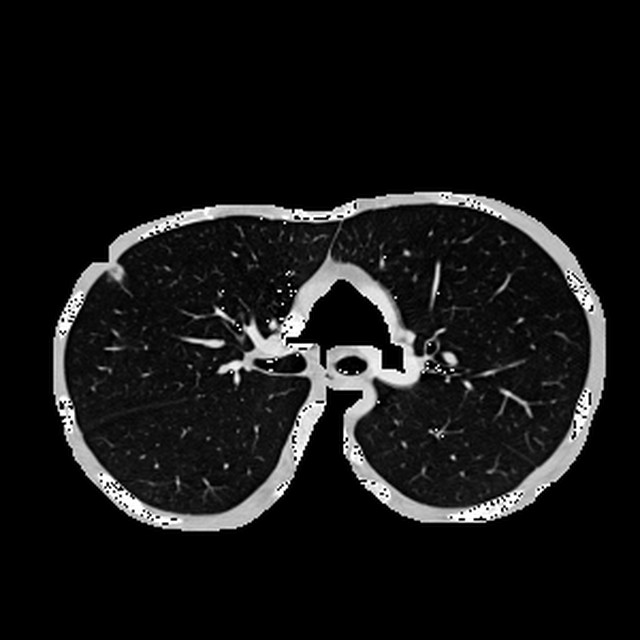PN: (107, 262, 124, 279)
